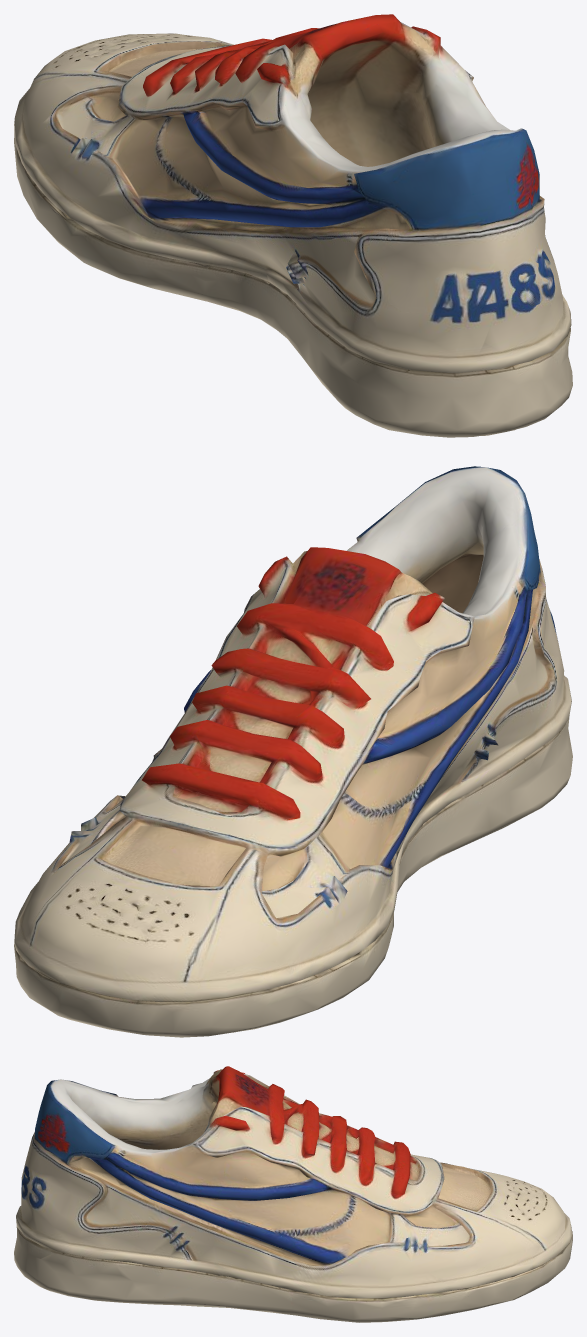
Rendered from gully-number-001-magic-carpet-for-women.glb.
3 renders of one model, top to bottom at view 1: azimuth 30°, elevation 25°; view 2: azimuth 150°, elevation 25°; view 3: azimuth 270°, elevation 25°, orthographic. The views are drawn at different scales.
Visible parts, largest first — view 1: tripo_node_7410591f-d888-4fde-888e-3ff11942f6f6; view 2: tripo_node_7410591f-d888-4fde-888e-3ff11942f6f6; view 3: tripo_node_7410591f-d888-4fde-888e-3ff11942f6f6.
Part boxes in pixels (box(x1,y1,x2,y2)): tripo_node_7410591f-d888-4fde-888e-3ff11942f6f6: box(14, 14, 572, 437); tripo_node_7410591f-d888-4fde-888e-3ff11942f6f6: box(14, 466, 572, 1037); tripo_node_7410591f-d888-4fde-888e-3ff11942f6f6: box(14, 1066, 572, 1322).
Size of the model in its own units: 0.4238 by 0.3915 by 1.
Materials: 1 (1 with a texture image).
